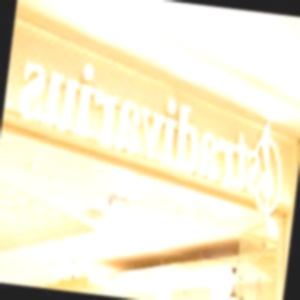stradivarius: (274, 112, 300, 159)
